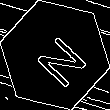N_NW: (24, 23, 86, 87)
